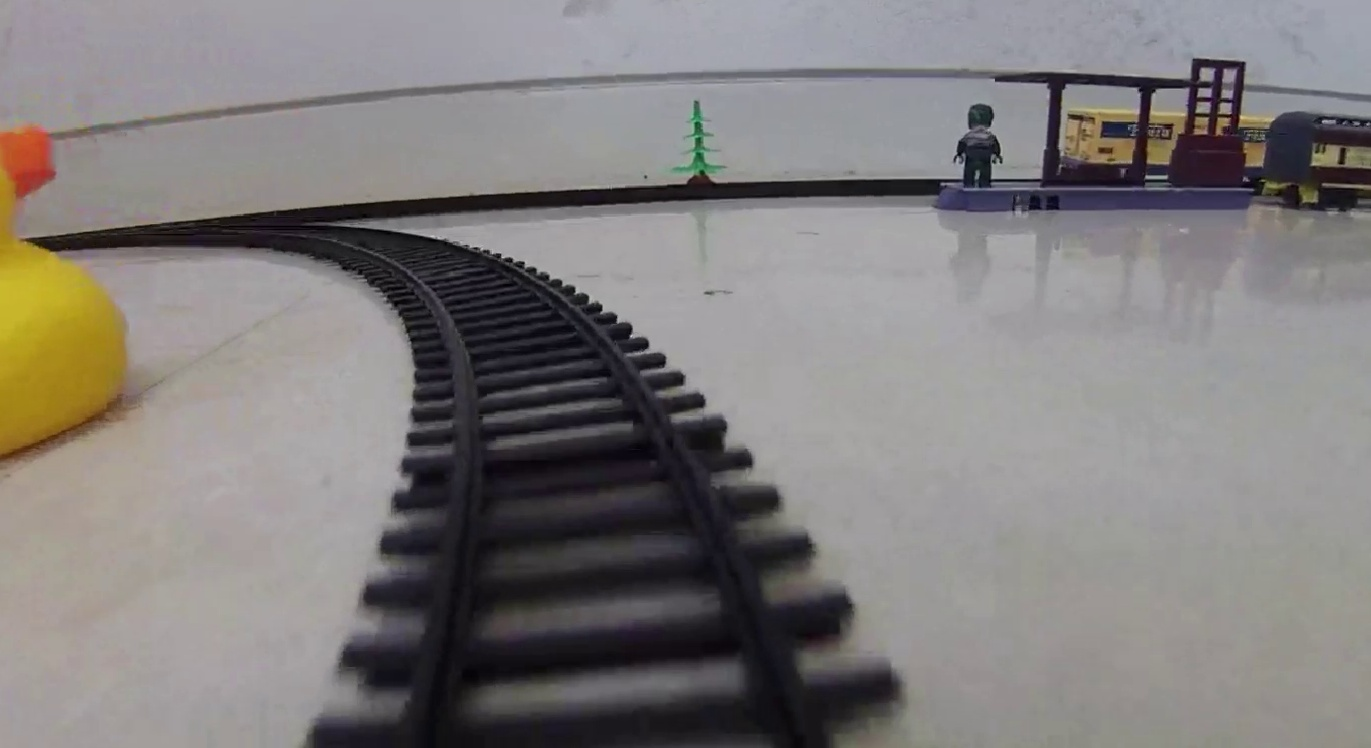people: (953, 104, 1007, 188)
tree: (672, 99, 728, 184)
